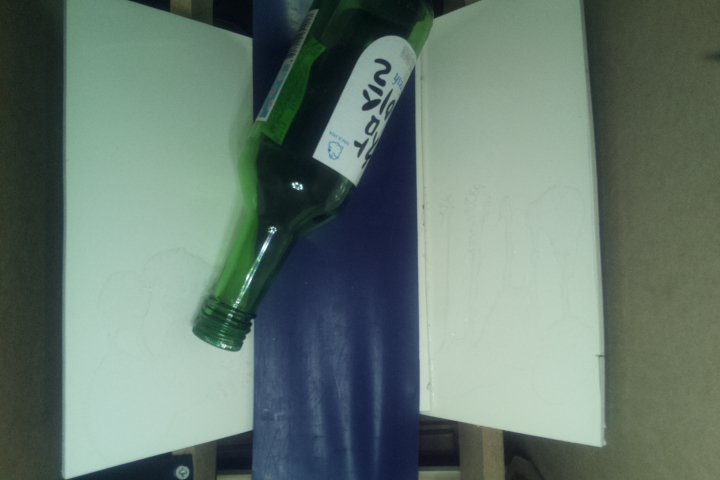soju: (189, 1, 438, 352)
